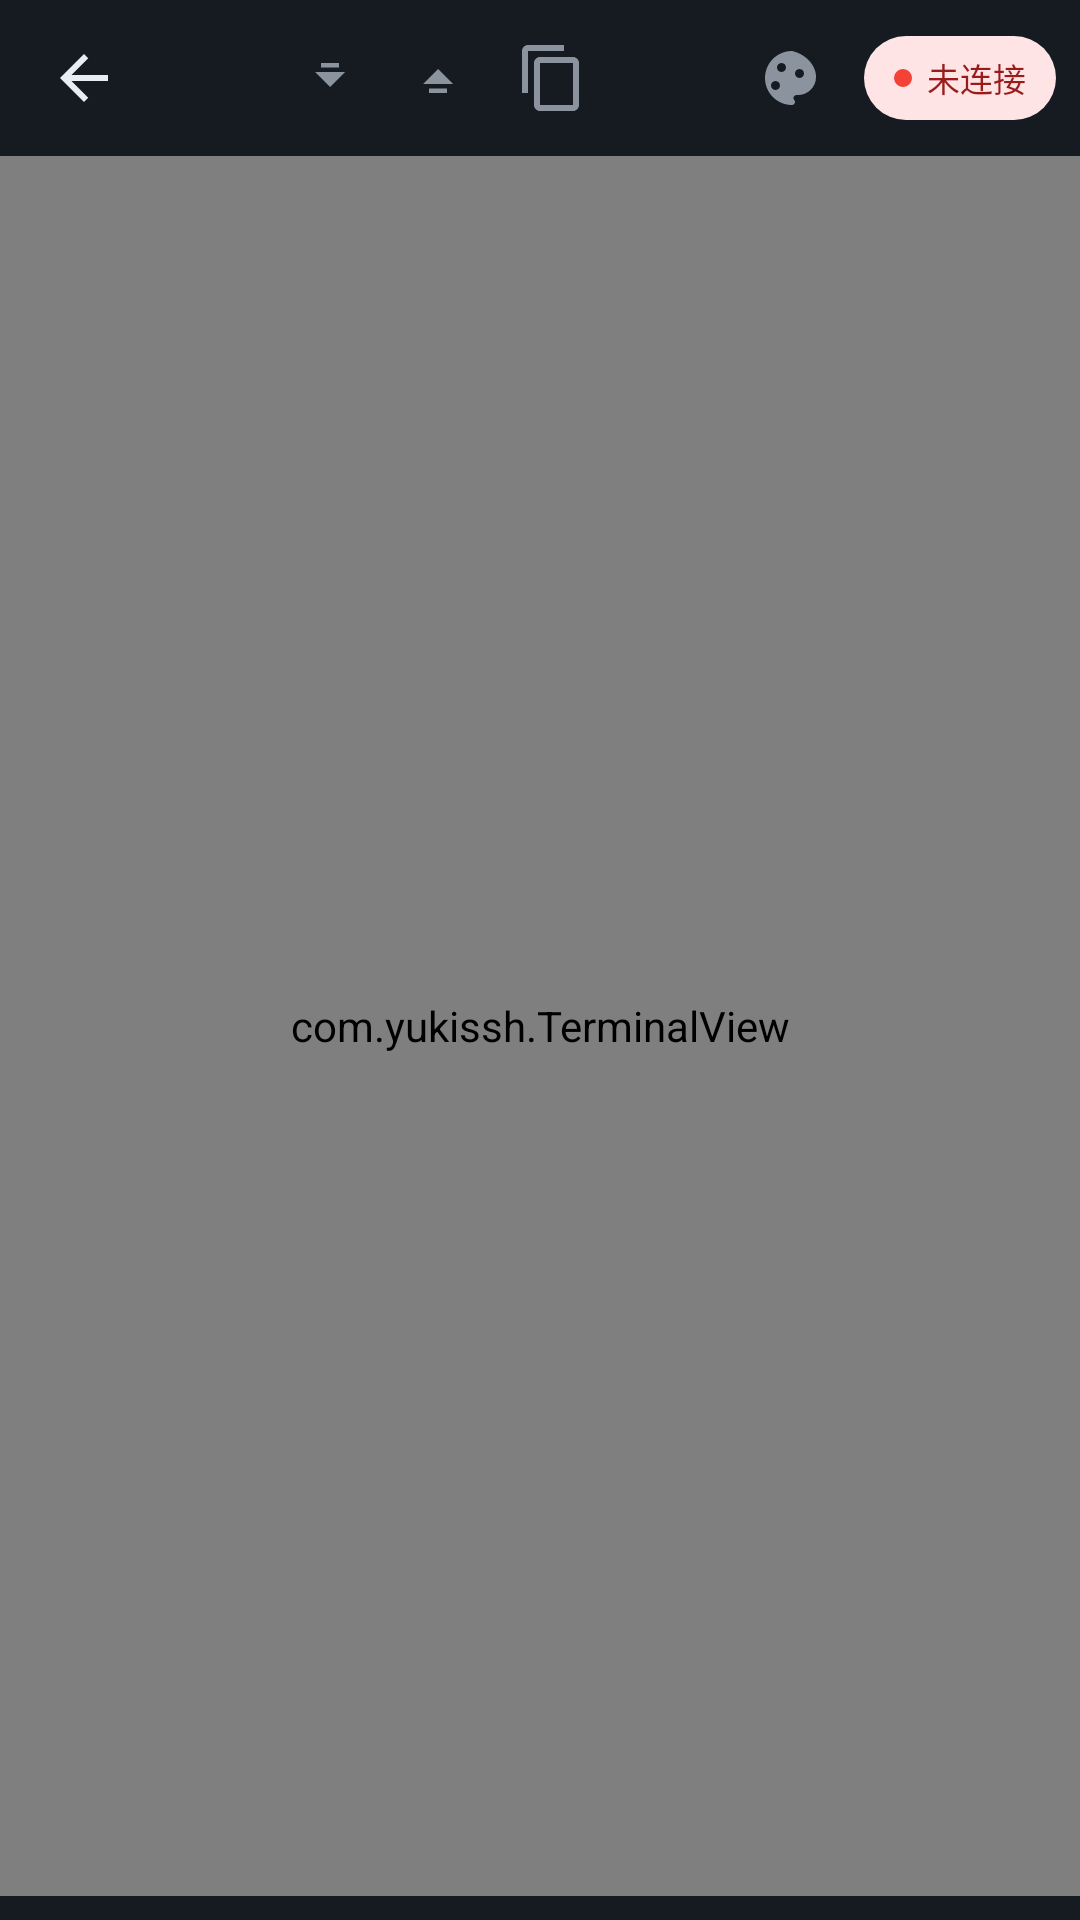

Point at icon controls on the screen. Image size 1080px×1920px, points as [x,y].
切换主题: [790,78]
取消: [84,78]
复制: [550,78]
放大字体: [438,81]
缩小字体: [330,75]
